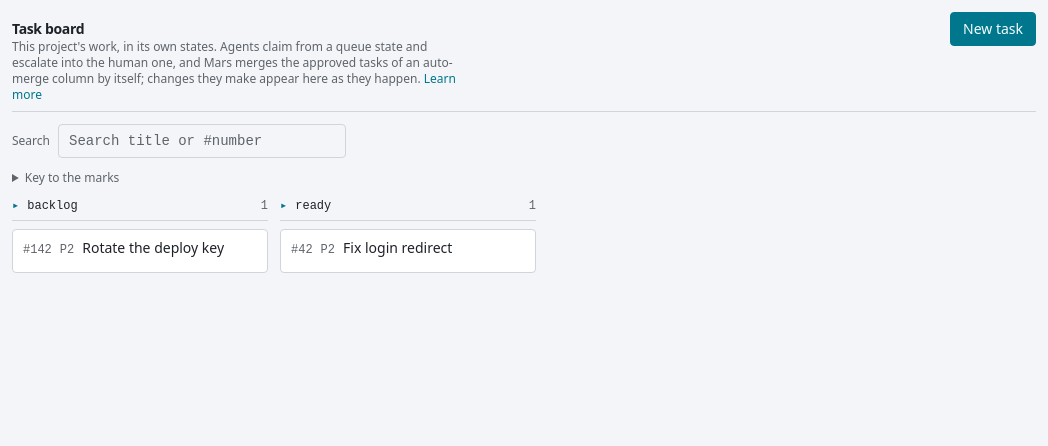
TaskBoard search › shows No matching tasks with a clear action, and restores on clear
Type "nothing here" into the search field named "Search tasks" at {"x": 202, "y": 141}, box [58, 124, 346, 158]
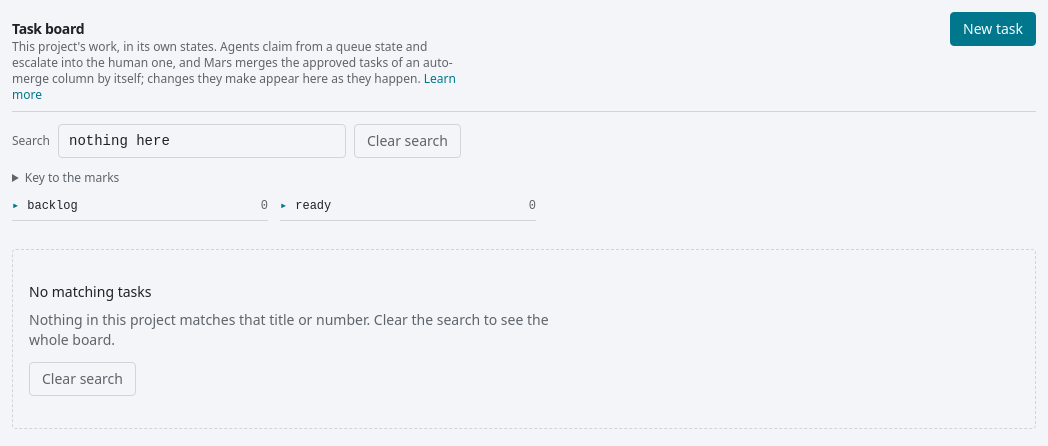
expect the text "No matching tasks" is shown: met, box [29, 282, 151, 301]
Click the button "Clear search" below "No matching tasks" at {"x": 82, "y": 379}, box [29, 362, 136, 396]
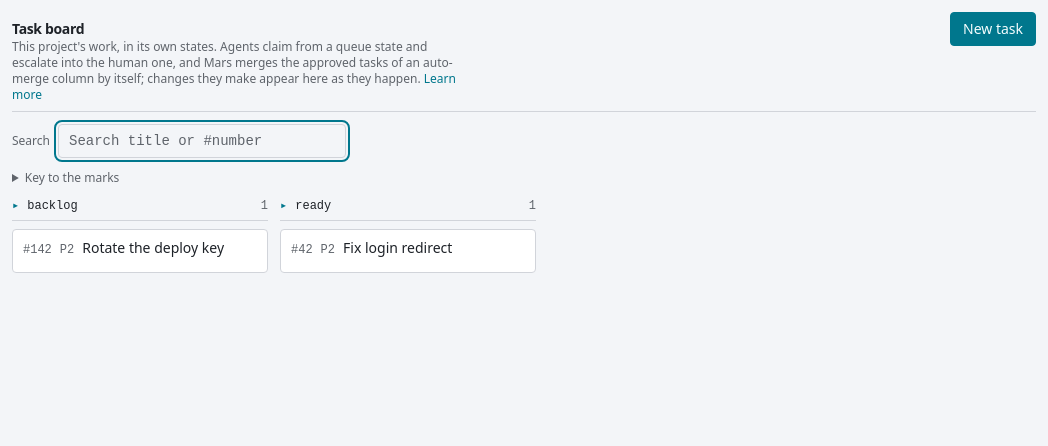
expect the text "No matching tasks" is gone: met
expect the heading "Rotate the deploy key" is shown: met, box [82, 238, 224, 257]
